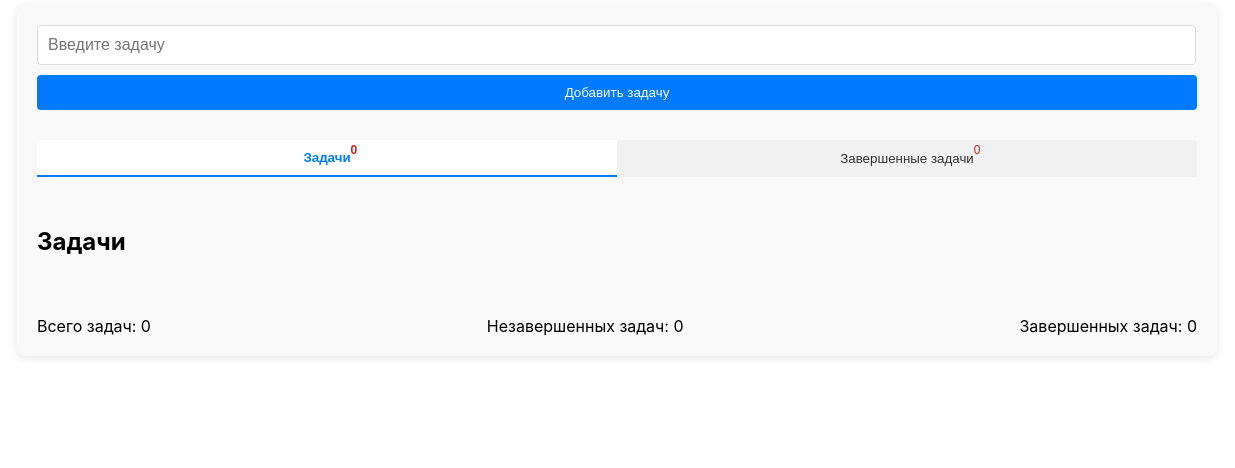
ToDoList Component › should display task counts
Type "Первая задача" into the field with placeholder "Введите задачу".
click(616, 45); type("Первая задача")  # box [37,25,1196,65]
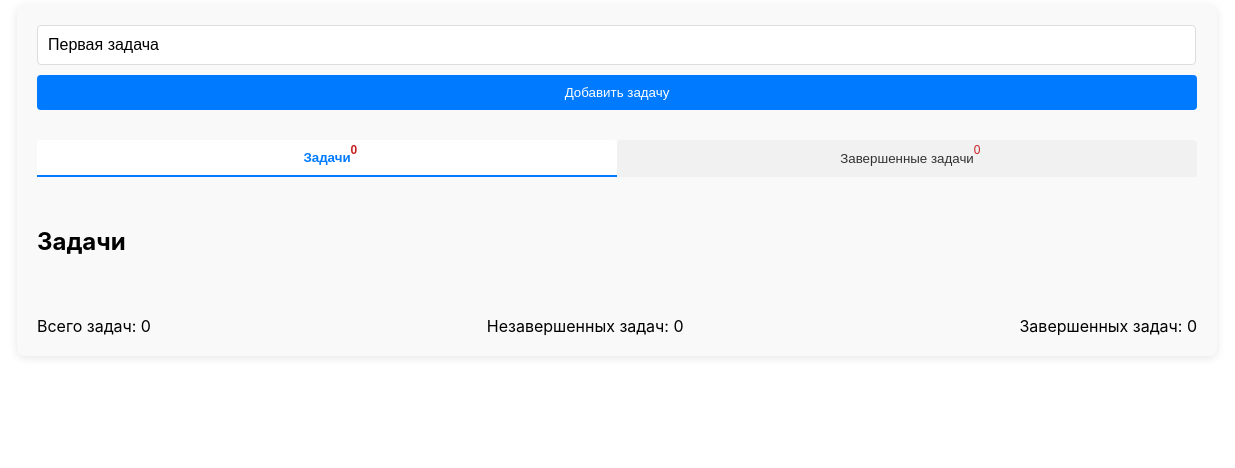
Click the button "Добавить задачу".
click(617, 92)  # box [37,75,1197,110]
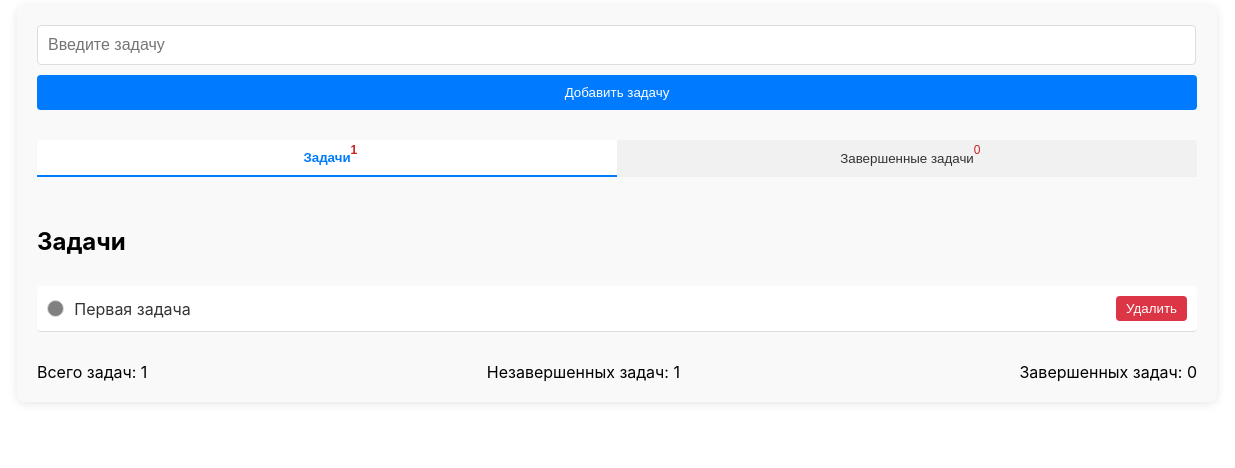
Type "Вторая задача" into the field with placeholder "Введите задачу".
click(616, 45); type("Вторая задача")  # box [37,25,1196,65]
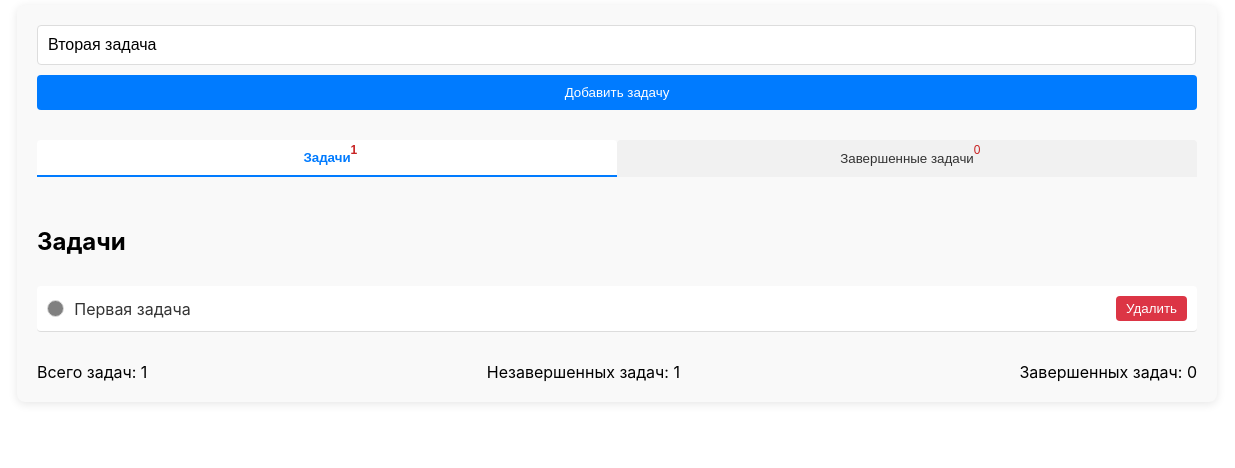
Click the button "Добавить задачу".
click(617, 92)  # box [37,75,1197,110]
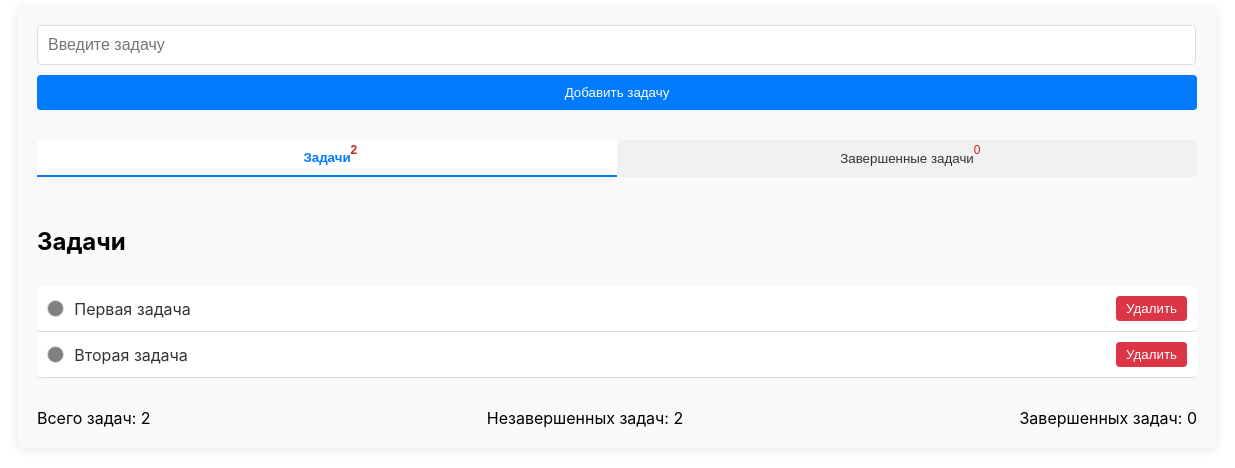
Expected: the text "Завершенных задач: 0" is shown, [1020,408,1197,428]
Now the text "Всего задач: 2" is shown, box [37,408,150,428]
Now the text "Незавершенных задач: 2" is shown, box [487,408,683,428]
